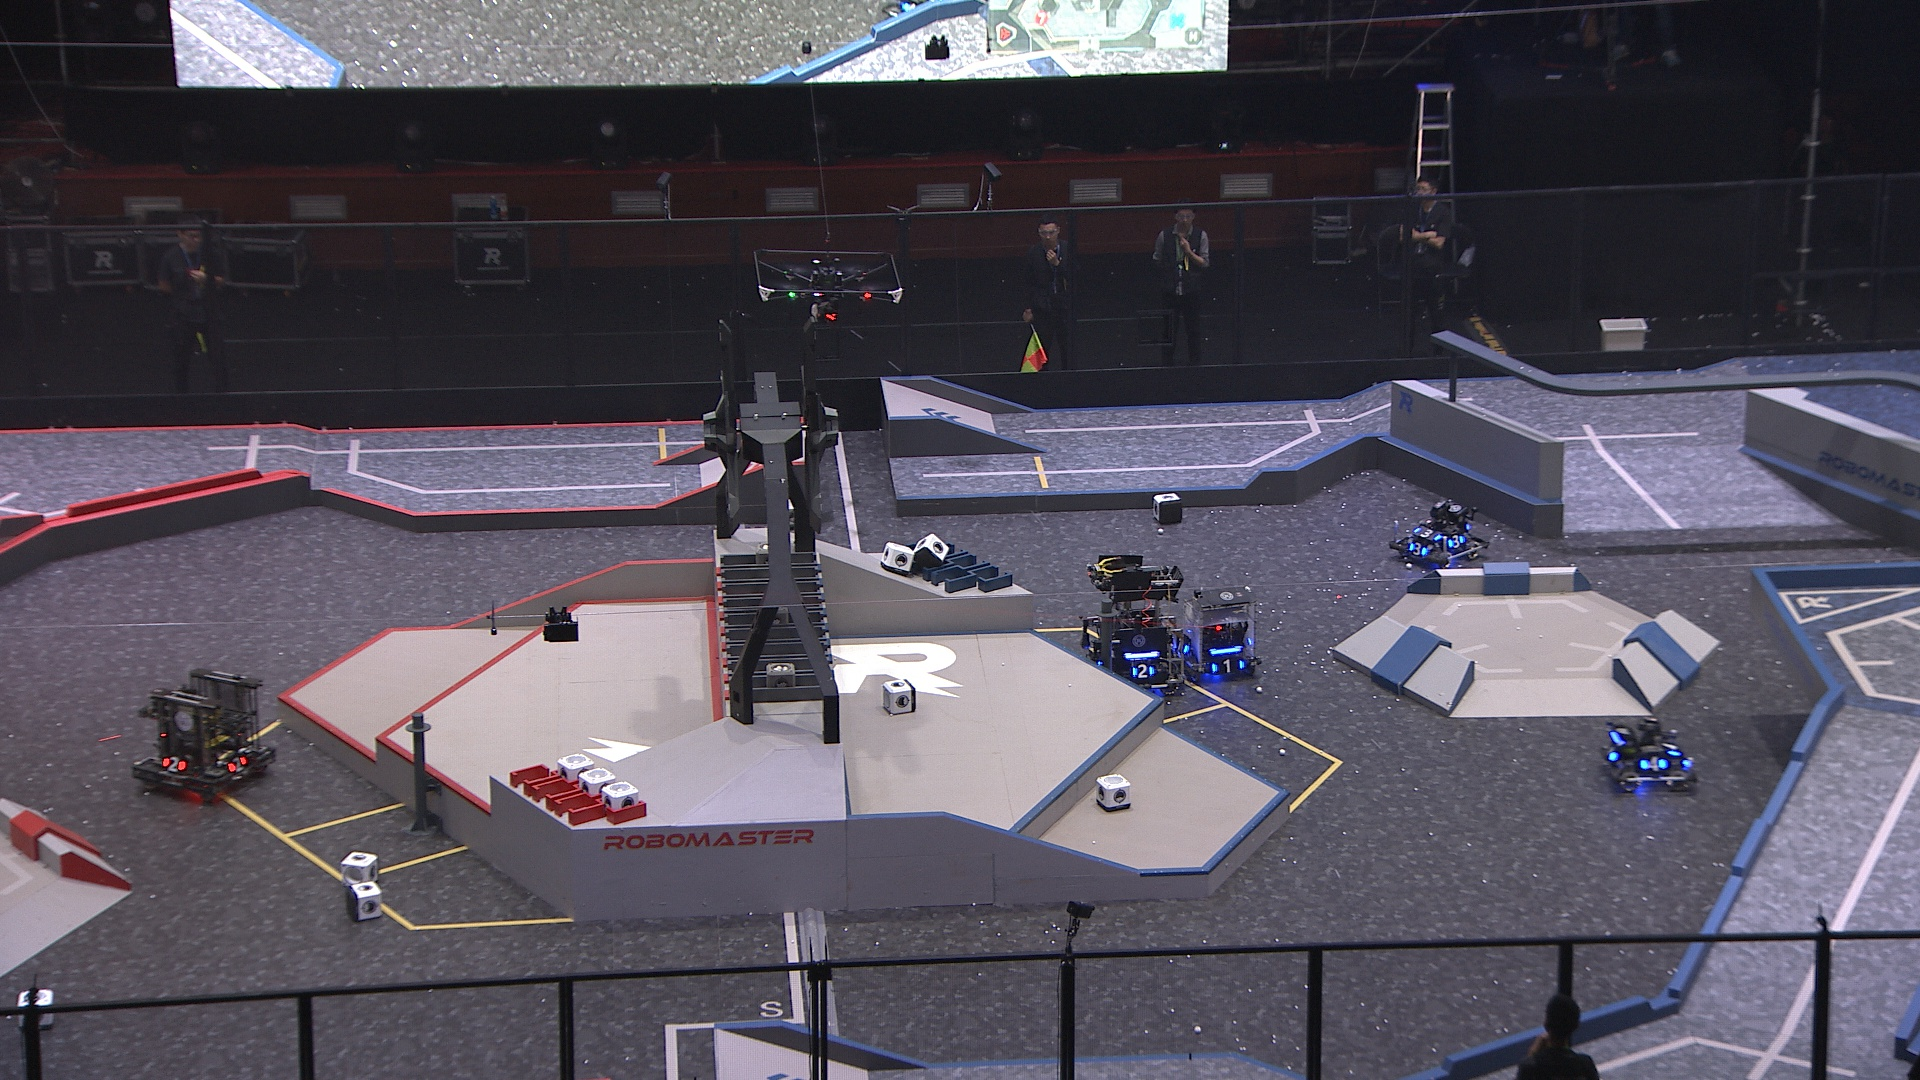armor: (1211, 655, 1247, 674), (225, 752, 248, 775), (1414, 524, 1443, 541), (162, 754, 186, 774), (1130, 662, 1156, 679), (1640, 756, 1667, 771), (1664, 738, 1683, 756), (1408, 542, 1429, 556), (1447, 534, 1466, 549), (1605, 745, 1619, 764), (1174, 636, 1185, 655)
car: (131, 669, 280, 798), (1084, 549, 1189, 698), (1600, 712, 1700, 796), (1182, 582, 1263, 680), (1386, 498, 1493, 571)
